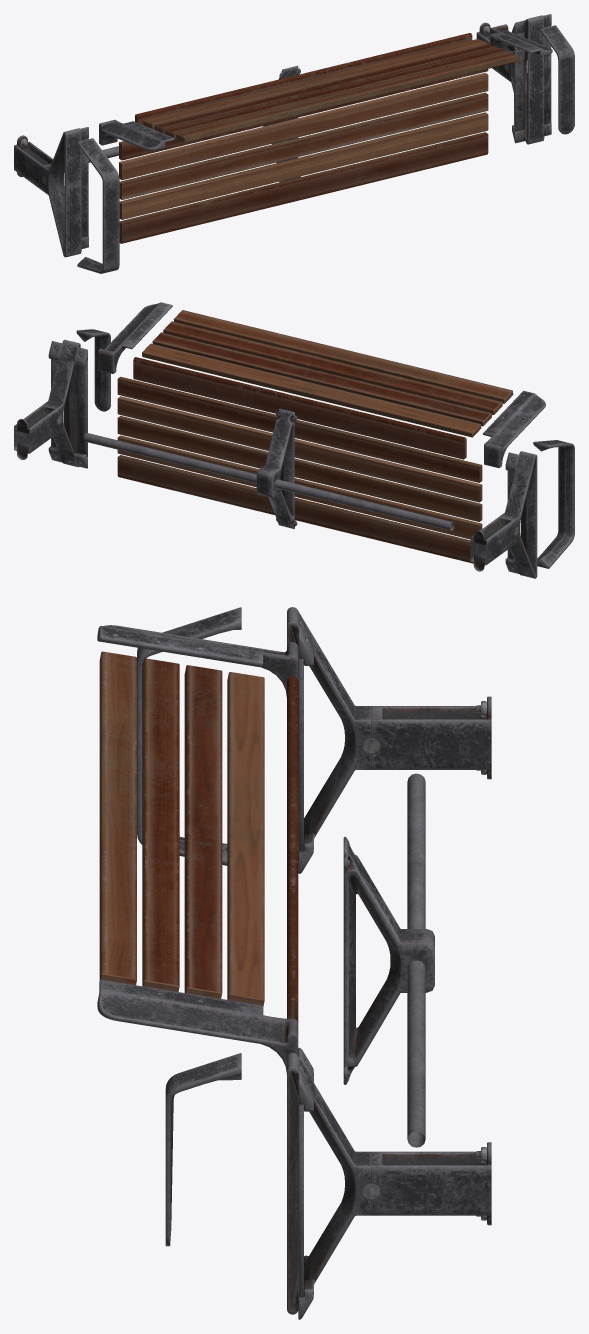
3 renders of one model, top to bottom at view 1: azimuth 30°, elevation 25°; view 2: azimuth 150°, elevation 25°; view 3: azimuth 270°, elevation 25°, orthographic. The views are drawn at different scales.
Visible parts, largest first — view 1: seat, seat_back, legs_single, legs_double, arm_rest_01, arm_rest_02, back_support_r, back_support_l, suspended_support_01; view 2: seat, seat_back, legs_double, legs_single, crossbar, suspended_support_01, arm_rest_01, back_support_r, back_support_l, arm_rest_02; view 3: seat_back, legs_double, legs_single, suspended_support_01, back_support_l, crossbar, back_support_r, seat, arm_rest_02, arm_rest_01.
Part boxes in pixels (x1=…): seat: x1=119, y1=33, x2=488, y2=243; seat_back: x1=143, y1=39, x2=519, y2=142; legs_single: x1=14, y1=127, x2=88, y2=257; legs_double: x1=476, y1=14, x2=551, y2=144; arm_rest_01: x1=77, y1=138, x2=119, y2=273; arm_rest_02: x1=540, y1=25, x2=574, y2=134; back_support_r: x1=99, y1=119, x2=174, y2=150; back_support_l: x1=489, y1=24, x2=552, y2=56; suspended_support_01: x1=263, y1=65, x2=300, y2=182; seat: x1=117, y1=357, x2=482, y2=563; seat_back: x1=142, y1=310, x2=513, y2=437; legs_double: x1=14, y1=339, x2=87, y2=468; legs_single: x1=470, y1=451, x2=537, y2=578; crossbar: x1=83, y1=433, x2=454, y2=530; suspended_support_01: x1=256, y1=408, x2=297, y2=528; arm_rest_01: x1=533, y1=440, x2=574, y2=568; back_support_r: x1=482, y1=390, x2=545, y2=467; back_support_l: x1=98, y1=302, x2=172, y2=373; arm_rest_02: x1=76, y1=329, x2=110, y2=411; seat_back: x1=99, y1=651, x2=264, y2=1006; legs_double: x1=287, y1=1047, x2=491, y2=1319; legs_single: x1=287, y1=607, x2=491, y2=873; suspended_support_01: x1=343, y1=837, x2=434, y2=1084; back_support_l: x1=97, y1=979, x2=298, y2=1073; crossbar: x1=407, y1=773, x2=425, y2=1147; back_support_r: x1=97, y1=625, x2=298, y2=697; seat: x1=287, y1=676, x2=298, y2=1022; arm_rest_02: x1=165, y1=1053, x2=241, y2=1246; arm_rest_01: x1=137, y1=607, x2=241, y2=865.
Bounding box in the file's own units: 2.45 × 0.6704 × 0.8669.
Materials: 4 (4 with a texture image).
